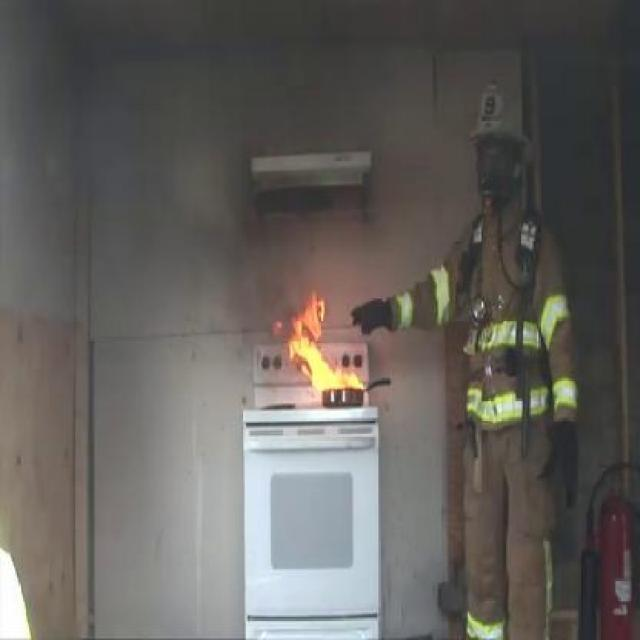fire: (286, 282, 360, 390)
